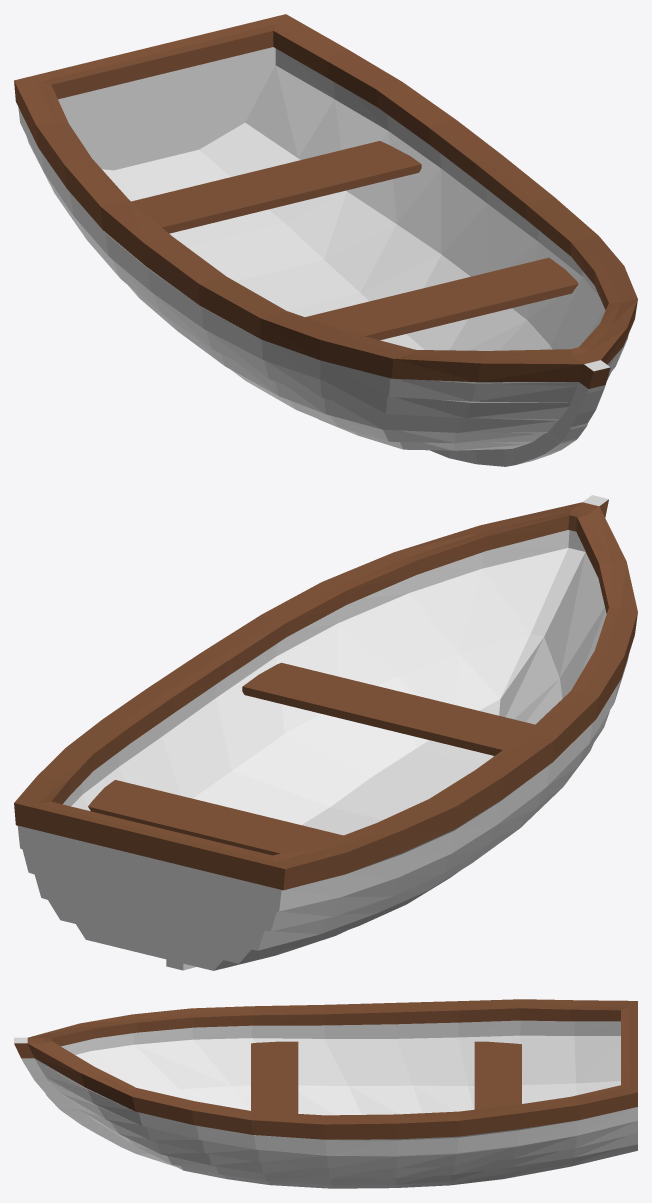
Rendered from Rowboat.glb.
The picture shows the model from 3 angles, top to bottom: view 1: azimuth 30°, elevation 25°; view 2: azimuth 150°, elevation 25°; view 3: azimuth 270°, elevation 25°; orthographic projection. The views are drawn at different scales.
Visible parts, largest first — view 1: Rowboat; view 2: Rowboat; view 3: Rowboat.
Part boxes in pixels (<box>): Rowboat: <box>14,14,637,466</box>; Rowboat: <box>14,495,637,970</box>; Rowboat: <box>14,999,637,1188</box>.
Bounding box in the file's own units: 32.08 × 17.66 × 70.03.
Materials: 1 (1 with a texture image).
